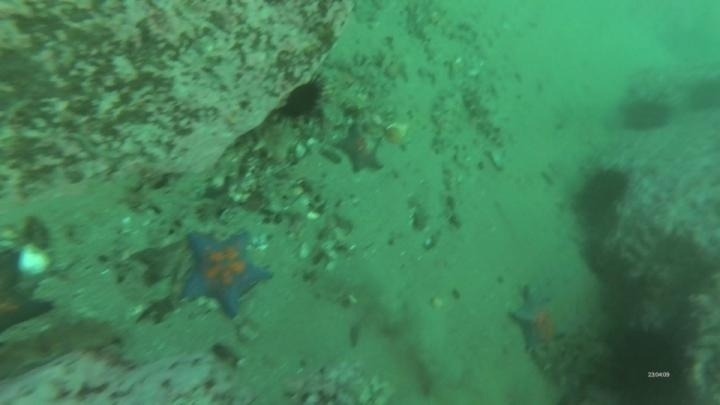echinus: (600, 323, 695, 404), (572, 164, 632, 222), (618, 94, 673, 135), (278, 77, 326, 120), (686, 75, 720, 116)
holothurian: (1, 314, 121, 377), (459, 82, 508, 149), (419, 89, 468, 156), (249, 116, 304, 167)
starfish: (178, 229, 274, 319), (1, 252, 57, 336), (507, 286, 573, 357), (333, 122, 388, 177)
